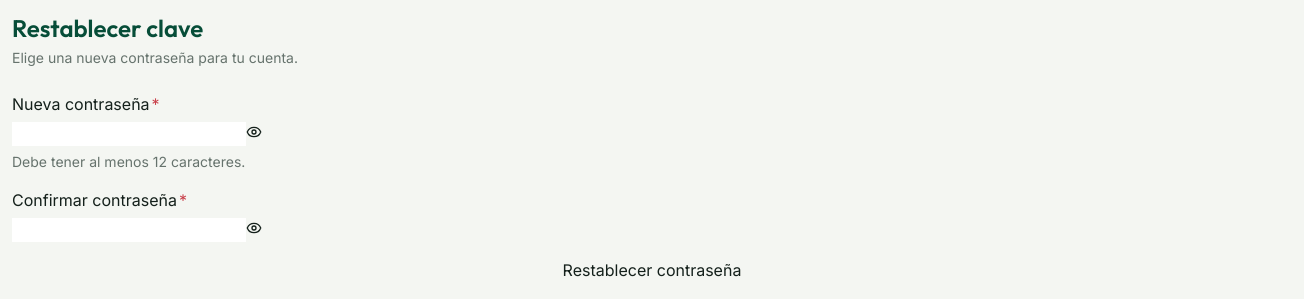
Test case: ResetPasswordPage › shows a weak-password message before submission (client-side length hint)
The image size is (1304, 299).
expect the heading "Restablecer clave" is shown: met, box [12,13,203,43]
Step 1. Type "short1" into the password field labelled "Nueva contraseña" → (129, 134), box [12,122,246,146]
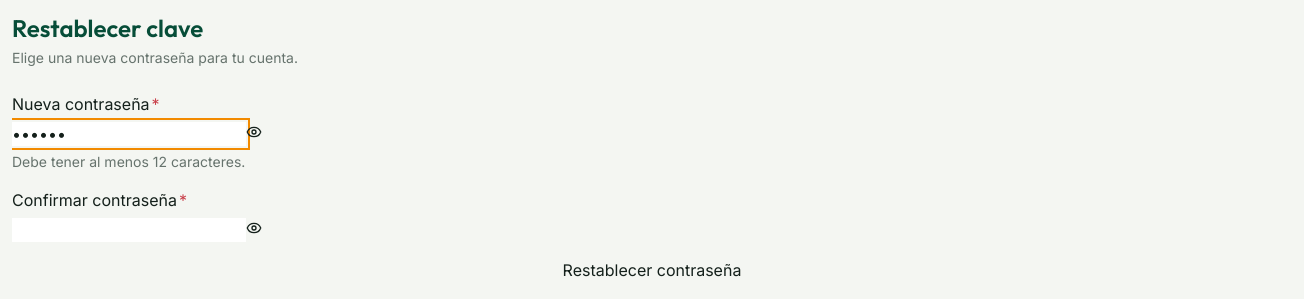
Step 2. Type "short1" into the password field labelled "Confirmar contraseña" → (129, 230), box [12,218,246,242]
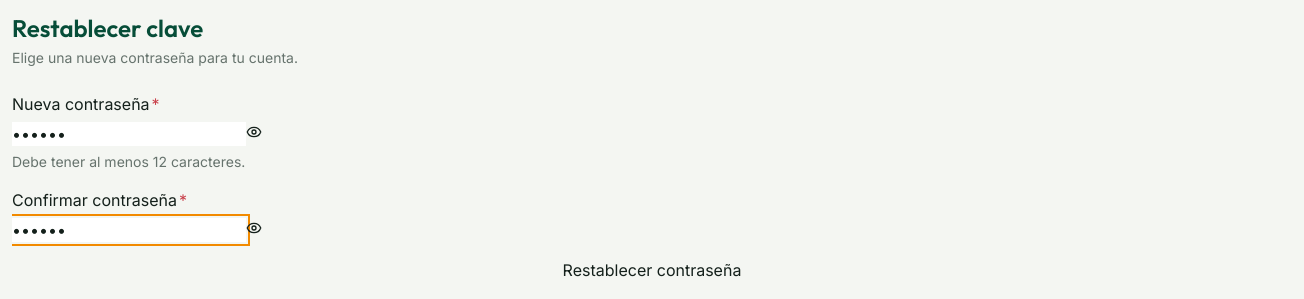
Step 3. Click the button "Restablecer contraseña" → (652, 270), box [12,258,1292,282]
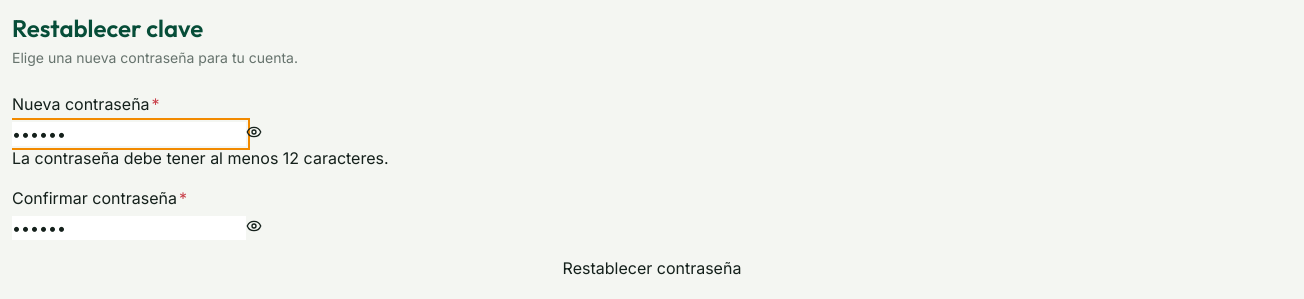
expect the text "La contraseña debe tener al menos 12 caracteres." is shown: met, box [12,148,389,168]
